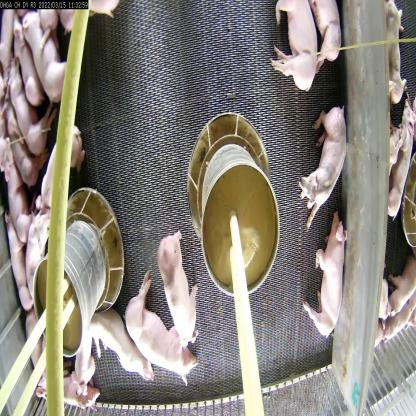Pig: (81, 290, 156, 402), (307, 217, 351, 362), (128, 278, 190, 378), (158, 228, 209, 334), (42, 113, 93, 218), (38, 336, 103, 416), (298, 111, 345, 207), (30, 205, 75, 302), (22, 1, 62, 98), (270, 7, 320, 84), (311, 0, 341, 84)
